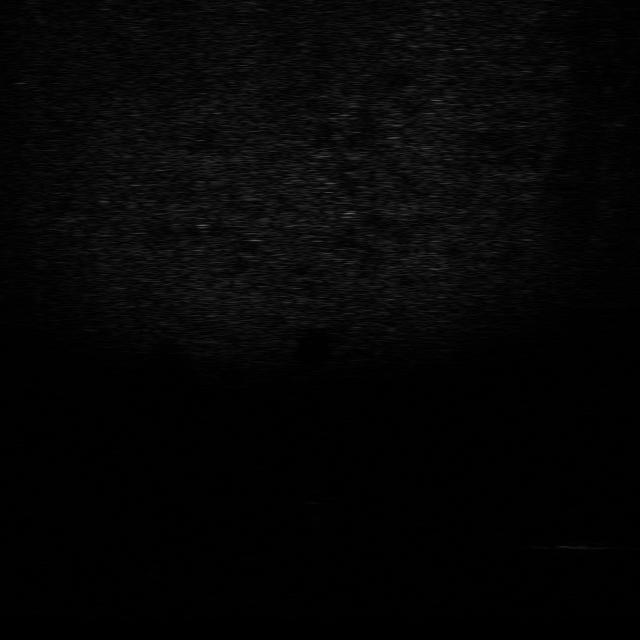ball: (296, 486, 332, 506)
metal bucket: (536, 533, 612, 556)
tyre: (145, 556, 187, 584)
